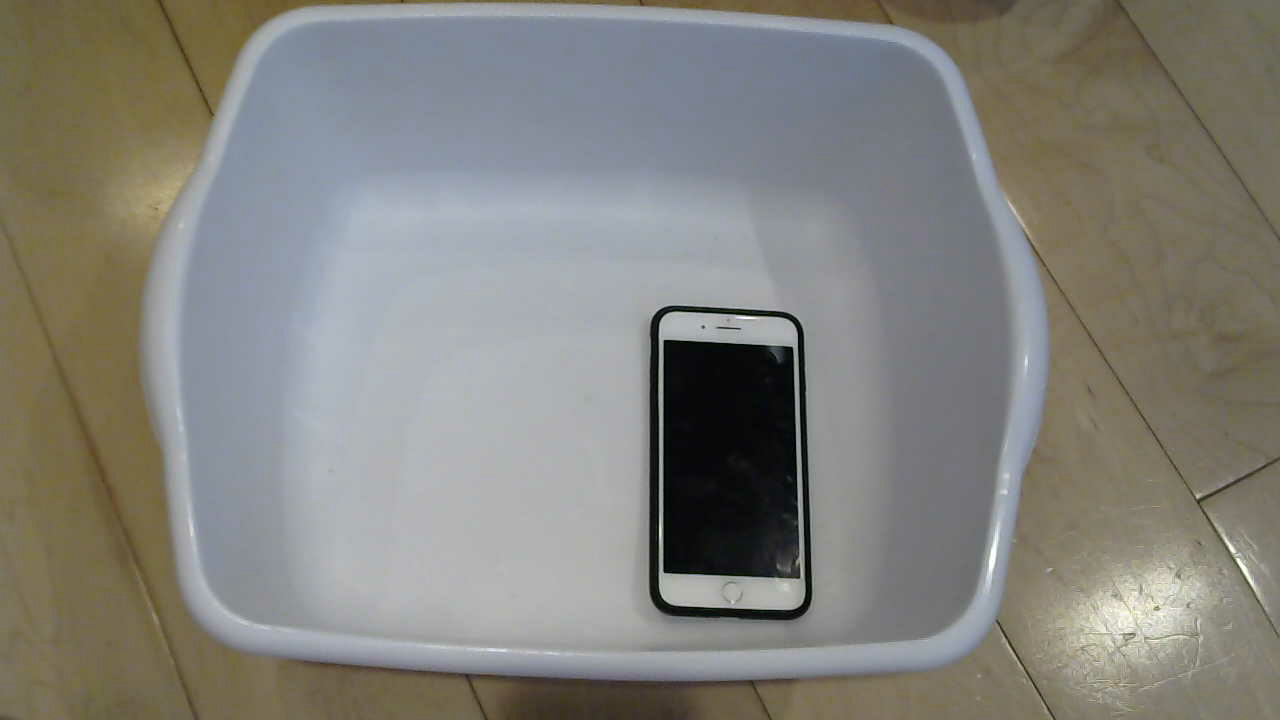phone: (647, 308, 832, 629)
